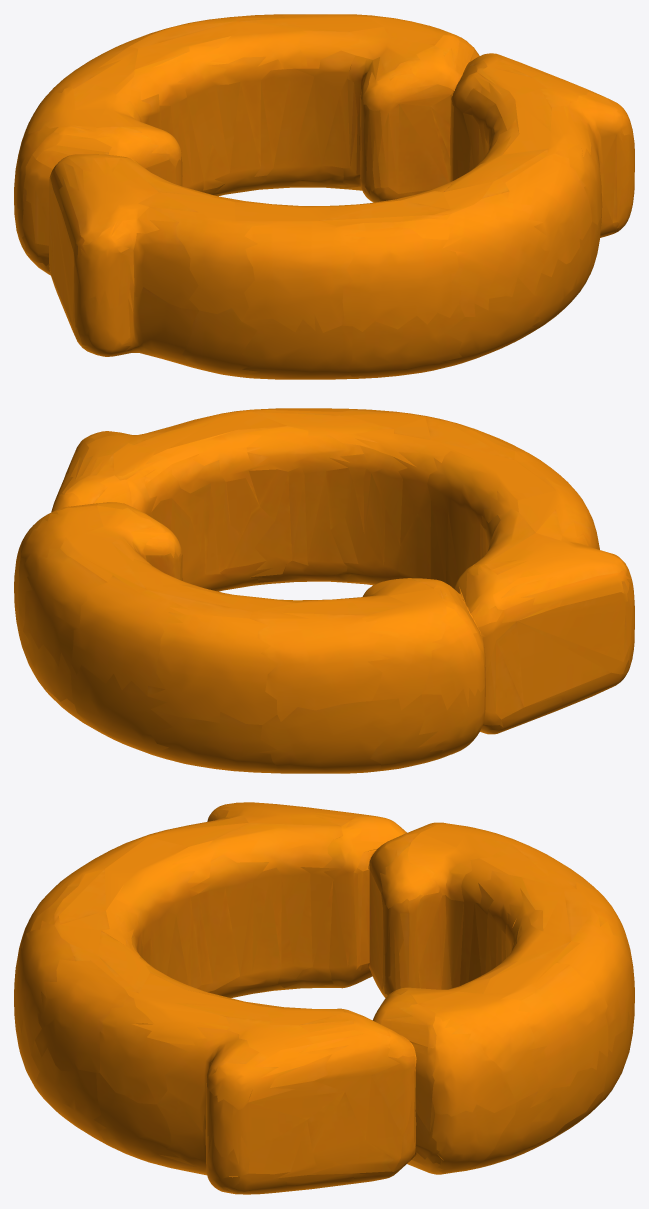
3 views of the same model, one above another, from view 1: azimuth 30°, elevation 25°; view 2: azimuth 150°, elevation 25°; view 3: azimuth 270°, elevation 25° (orthographic). The views are drawn at different scales.
Size of the model in its own units: 1.9 by 0.5074 by 1.78.
Materials: 1 (1 with a texture image).
